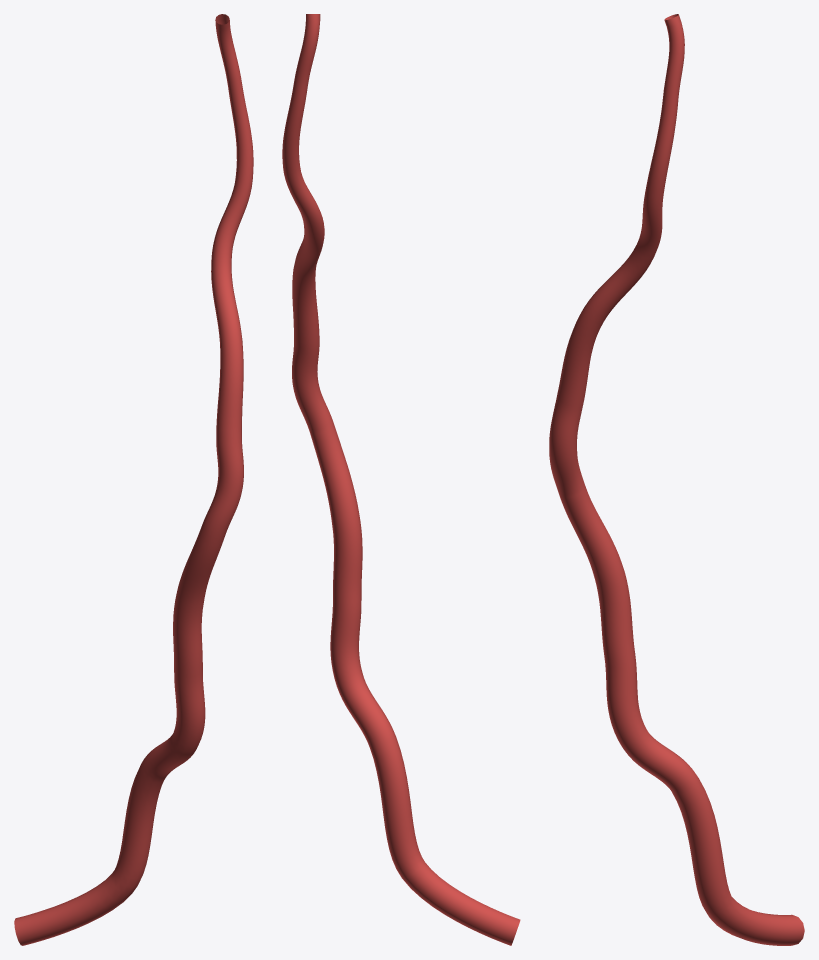
The picture shows the model from 3 angles, left to right: view 1: azimuth 30°, elevation 25°; view 2: azimuth 210°, elevation 25°; view 3: azimuth 270°, elevation 25°; orthographic projection. The views are drawn at different scales.
Parts seen in each view (by area): view 1: 左侧大脑中动脉M3段; view 2: 左侧大脑中动脉M3段; view 3: 左侧大脑中动脉M3段.
Part boxes in pixels (x1=…): 左侧大脑中动脉M3段: x1=14, y1=14, x2=253, y2=945; 左侧大脑中动脉M3段: x1=282, y1=14, x2=520, y2=945; 左侧大脑中动脉M3段: x1=549, y1=14, x2=804, y2=945.
Bounding box in the file's own units: 0.0213 × 0.1056 × 0.0243.
